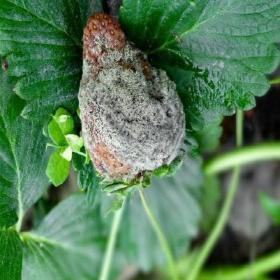Gray Mold: (77, 11, 187, 183)
